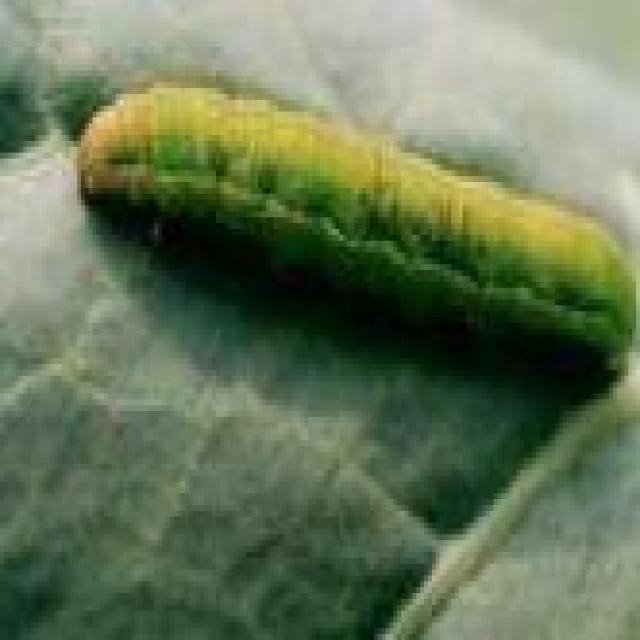BeetArmyWorm-Larva-: (63, 66, 636, 373)
